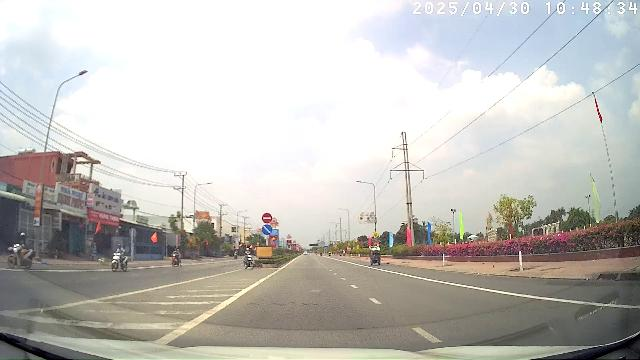102-cam-di-nguoc-chieu: (261, 212, 273, 224)
302a-huong-phai-di-vong-chuong-ngai-vat-1: (262, 224, 272, 235)
